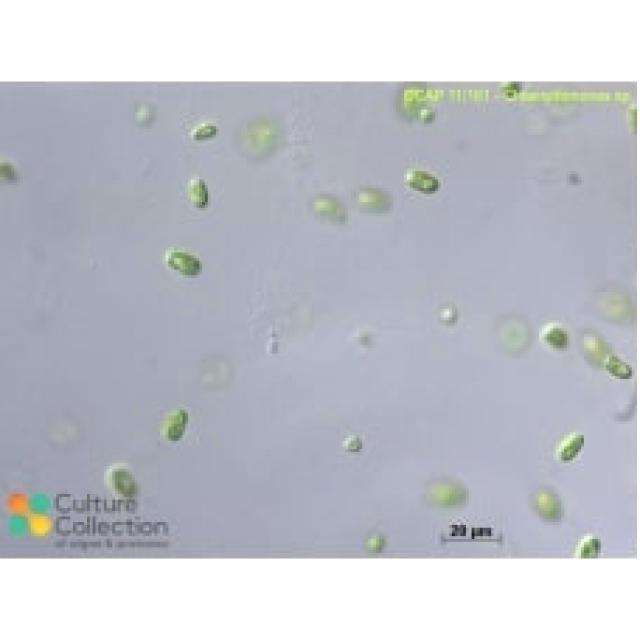Green Algae: (160, 404, 191, 444), (539, 320, 575, 354), (107, 466, 143, 500), (572, 522, 604, 559), (163, 250, 205, 278), (404, 168, 444, 196), (604, 354, 637, 384), (185, 171, 211, 208), (556, 432, 586, 463), (188, 121, 222, 143)
